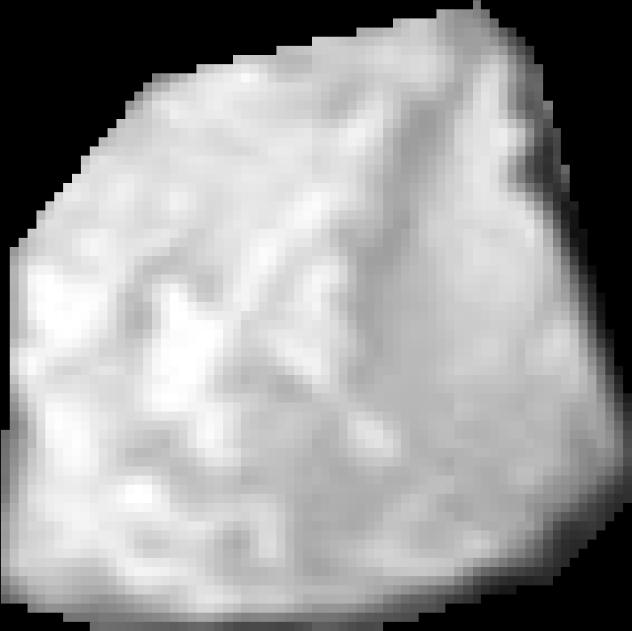tumor_less_chance: (1, 0, 632, 631)
